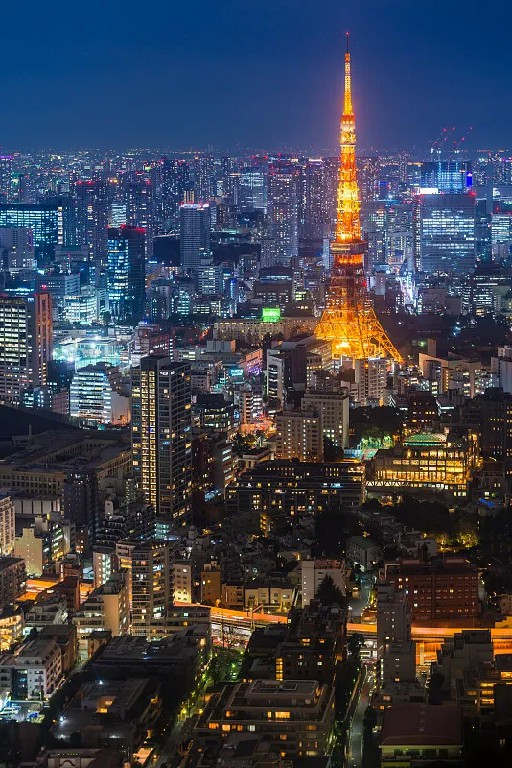Tokyo: (308, 28, 404, 366)
